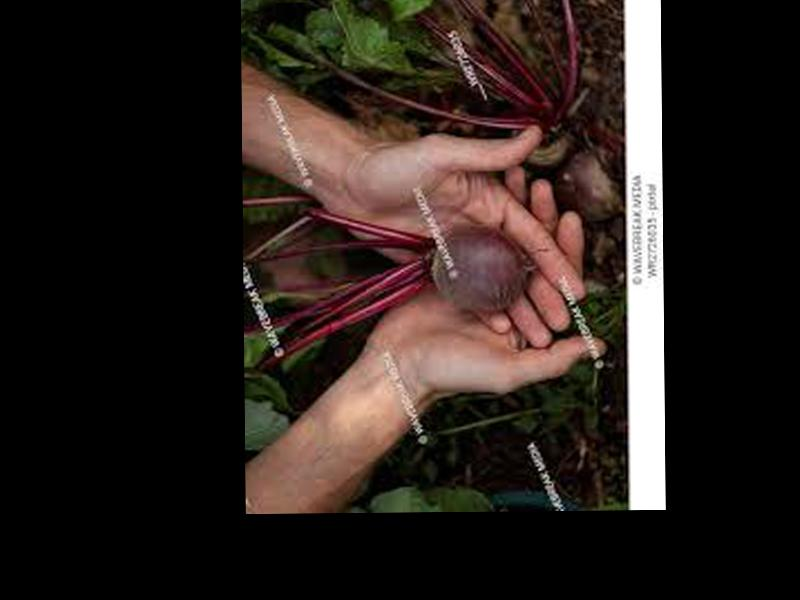Beet: (251, 204, 537, 375)
